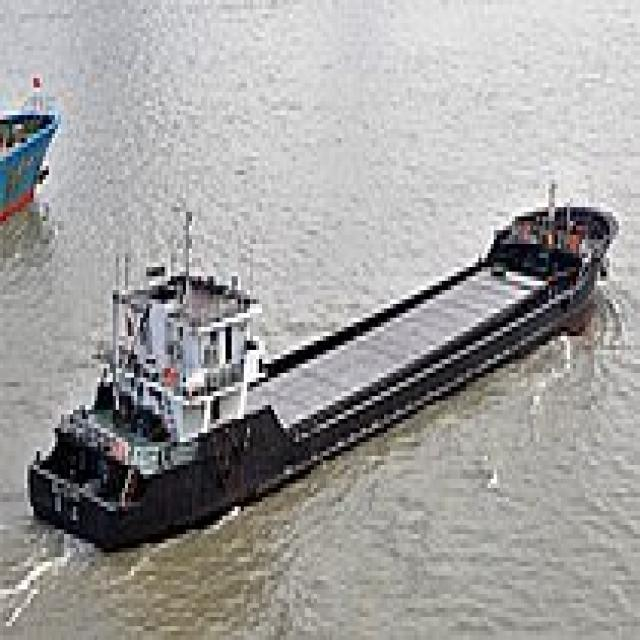Cargo: (24, 175, 619, 552)
